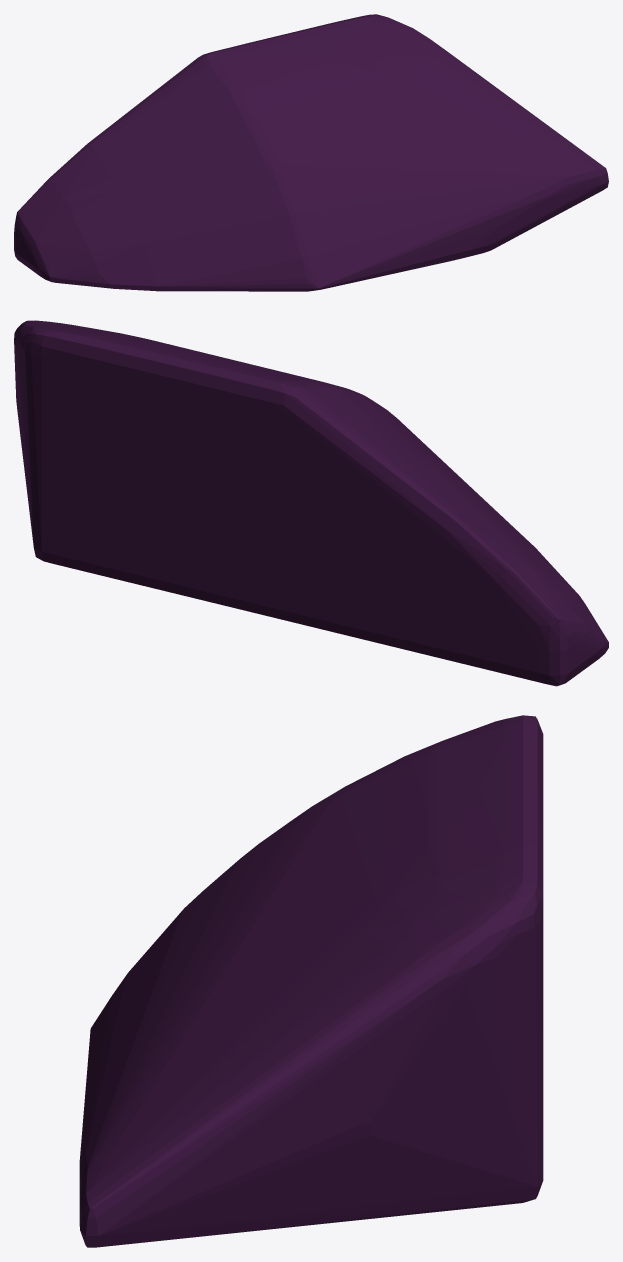
File: left_hip_yaw_link_part_26.obj
The picture shows the model from 3 angles, top to bottom: view 1: azimuth 30°, elevation 25°; view 2: azimuth 150°, elevation 25°; view 3: azimuth 270°, elevation 25°; orthographic projection. The views are drawn at different scales.
Size of the model in its own units: 0.0994 by 0.032 by 0.0412.
